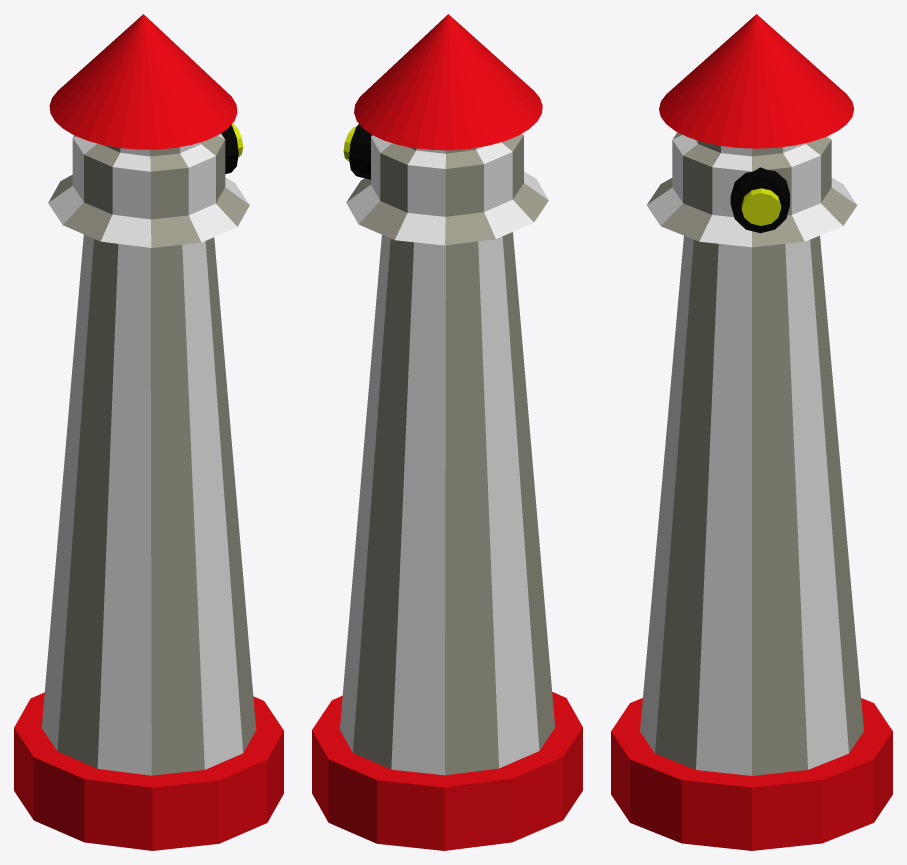
Rendered from AnushaLighthouse.glb.
3 renders of one model, left to right at view 1: azimuth 30°, elevation 25°; view 2: azimuth 150°, elevation 25°; view 3: azimuth 270°, elevation 25°, orthographic.
Parts seen in each view (by area): view 1: Body, hat, Mid Light; view 2: Body, hat, Mid Light; view 3: Body, hat, Mid Light, Act Light.
Boxes of the visible parts, box(x1,y1,x2,y2) form: Body: box(14, 133, 283, 850); hat: box(49, 14, 237, 149); Mid Light: box(221, 125, 238, 173); Body: box(312, 133, 582, 850); hat: box(354, 14, 542, 150); Mid Light: box(349, 124, 371, 179); Body: box(611, 132, 892, 850); hat: box(659, 14, 854, 148); Mid Light: box(730, 167, 789, 233); Act Light: box(741, 188, 780, 225).
Size of the model in its own units: 2 by 6.45 by 2.11.
